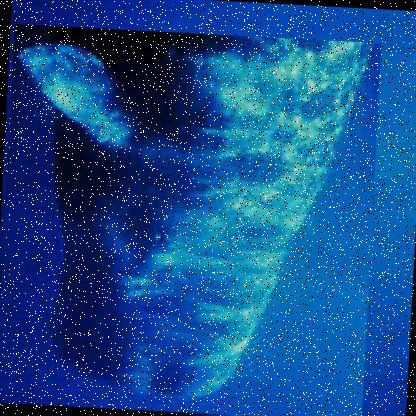sperm_whale: (0, 23, 380, 415)
